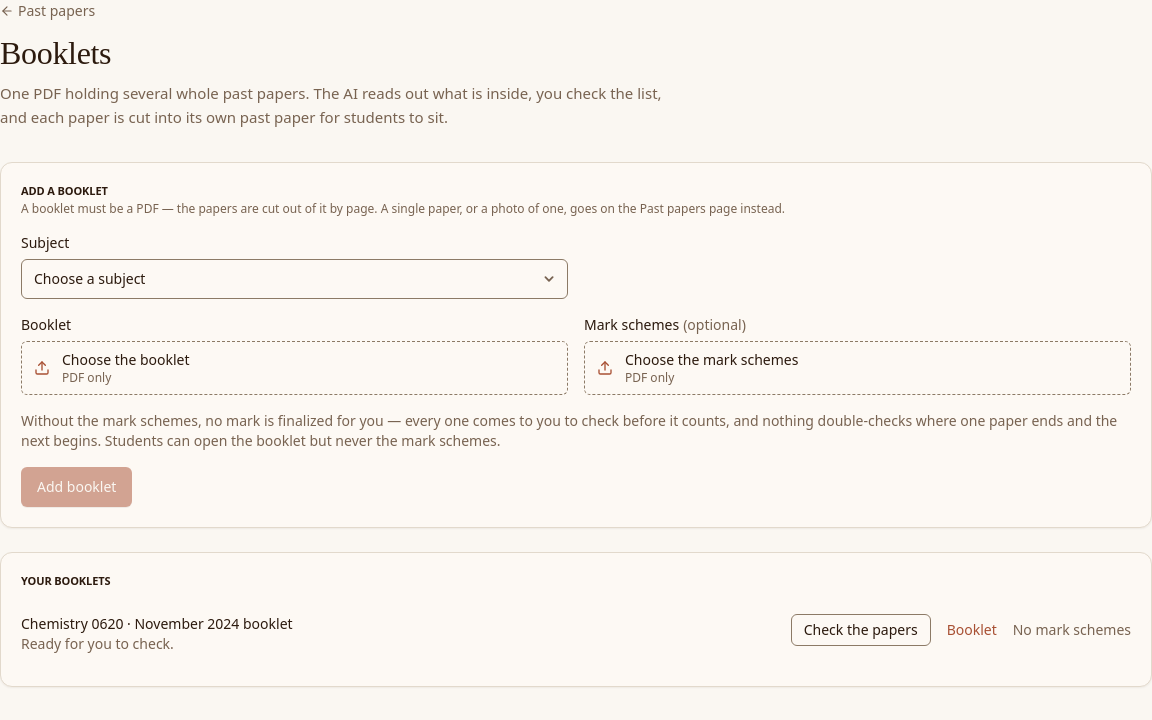
Test case: a mark scheme that disagrees with the paper list is put in front of the tutor
Step 1. Click the button "Check the papers" → (861, 630), box [791,614,931,646]
(page scrolled)
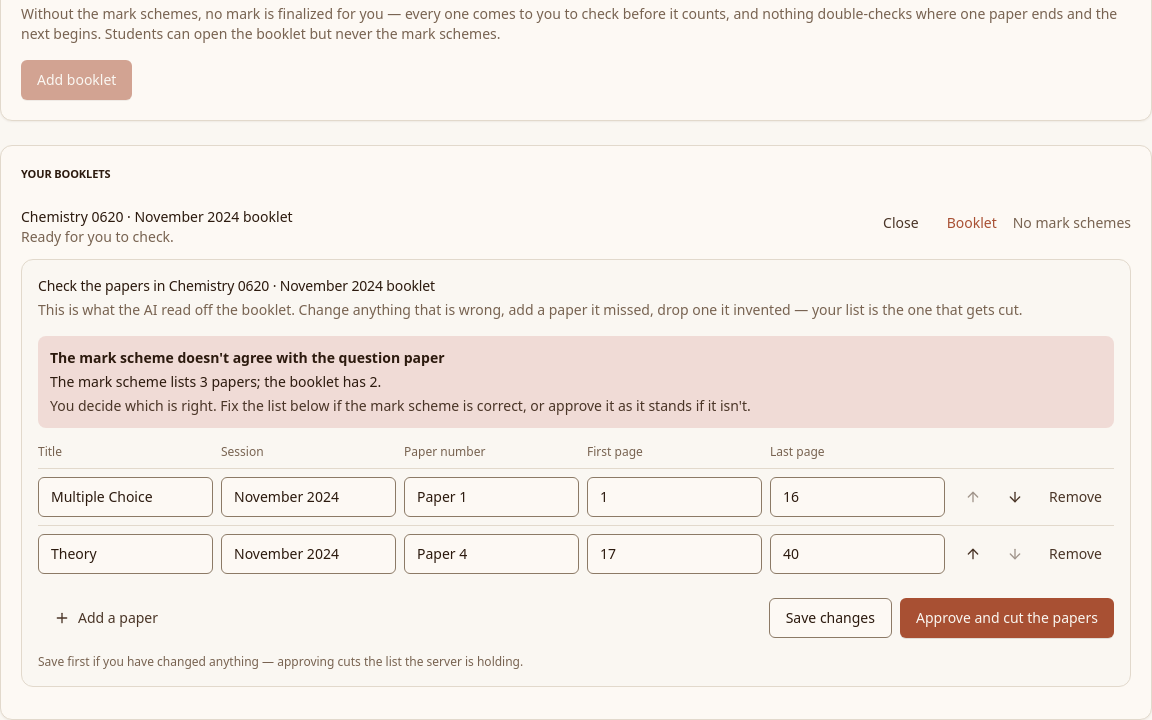
Expected: the message shows "The mark scheme lists 3 papers; the booklet has 2.", [50,372,381,391]
Expected: the message shows "You decide which is right", [50,396,751,415]
